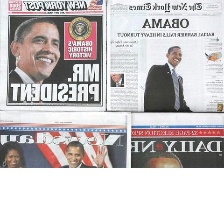news_paper: (105, 0, 224, 113), (0, 0, 107, 114), (0, 109, 131, 169), (127, 112, 224, 170)
